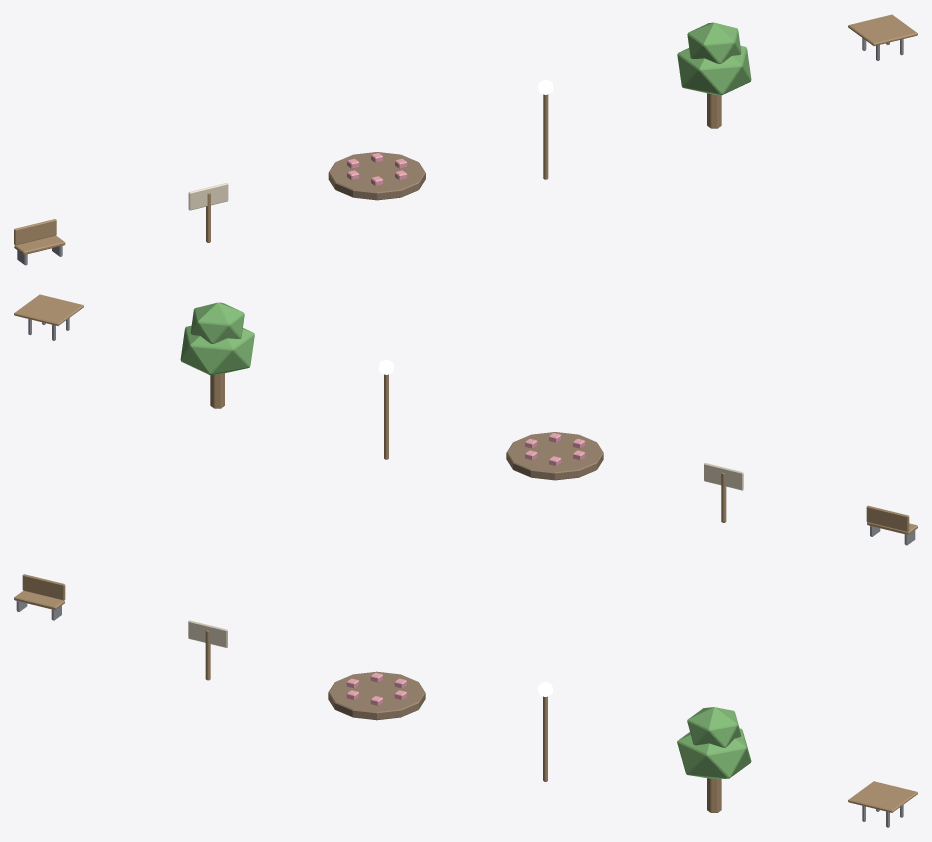
The model's file is items.glb.
The picture shows the model from 3 angles, top to bottom: view 1: azimuth 30°, elevation 25°; view 2: azimuth 150°, elevation 25°; view 3: azimuth 330°, elevation 25°; orthographic projection.
Parts seen in each view (by area): view 1: 木, 花壇, 机, 椅子, 立て札, 灯り; view 2: 木, 花壇, 机, 椅子, 立て札, 灯り; view 3: 木, 花壇, 机, 椅子, 立て札, 灯り.
Part boxes in pixels (x1,y1,x2,y2): 木: [677, 22, 751, 128]; 花壇: [328, 152, 425, 200]; 机: [848, 14, 917, 60]; 椅子: [14, 219, 65, 265]; 立て札: [188, 183, 228, 242]; 灯り: [538, 79, 553, 179]; 木: [180, 302, 254, 408]; 花壇: [506, 432, 603, 480]; 机: [14, 294, 83, 340]; 椅子: [866, 505, 917, 545]; 立て札: [704, 463, 743, 522]; 灯り: [378, 359, 393, 459]; 木: [677, 707, 751, 812]; 花壇: [328, 671, 425, 720]; 机: [848, 781, 917, 827]; 椅子: [14, 574, 65, 620]; 立て札: [188, 620, 227, 680]; 灯り: [538, 681, 553, 781].
Bounding box in the file's own units: 31.55 × 3.92 × 3.
